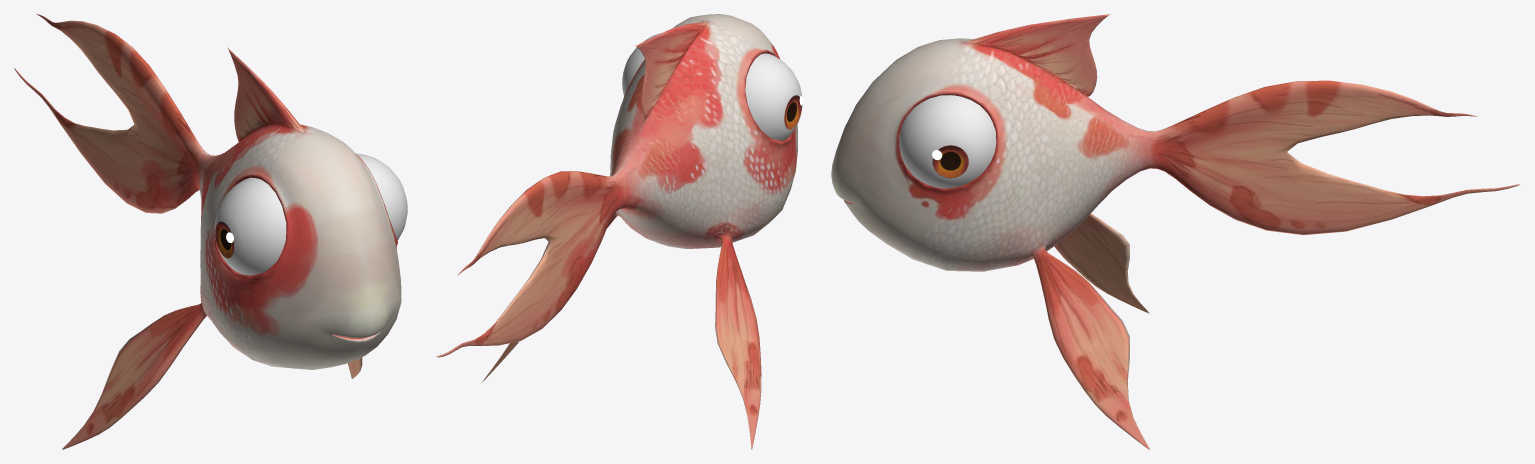
The model's file is fish.glb.
3 views of the same model, side by side, from view 1: azimuth 30°, elevation 25°; view 2: azimuth 150°, elevation 25°; view 3: azimuth 270°, elevation 25° (orthographic). The views are drawn at different scales.
Parts seen in each view (by area): view 1: Fish_Body_Fish_01_0; view 2: Fish_Body_Fish_01_0; view 3: Fish_Body_Fish_01_0.
Part boxes in pixels (left/top/right/bottom): Fish_Body_Fish_01_0: left=14, top=14, right=407, bottom=449; Fish_Body_Fish_01_0: left=436, top=14, right=802, bottom=449; Fish_Body_Fish_01_0: left=831, top=14, right=1520, bottom=449.
Size of what is drawn, in the model's own units: 700 by 882 by 1498.
2 materials, 1 textured.
